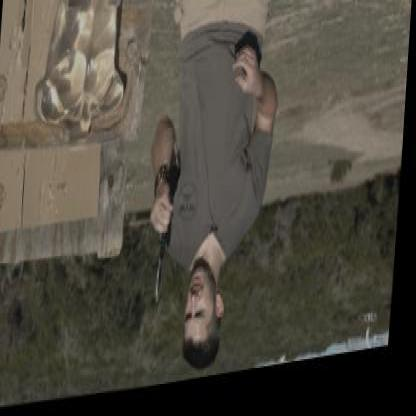knife: (148, 196, 180, 312)
